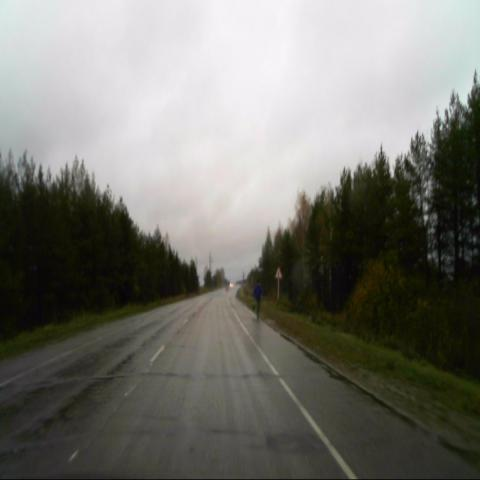2_3_3: (274, 265, 282, 279)
